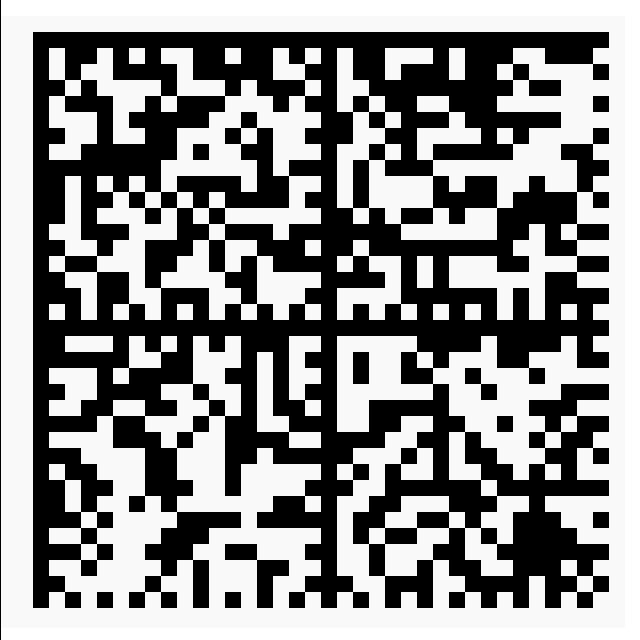DataMatrix: (0, 16, 624, 628)
